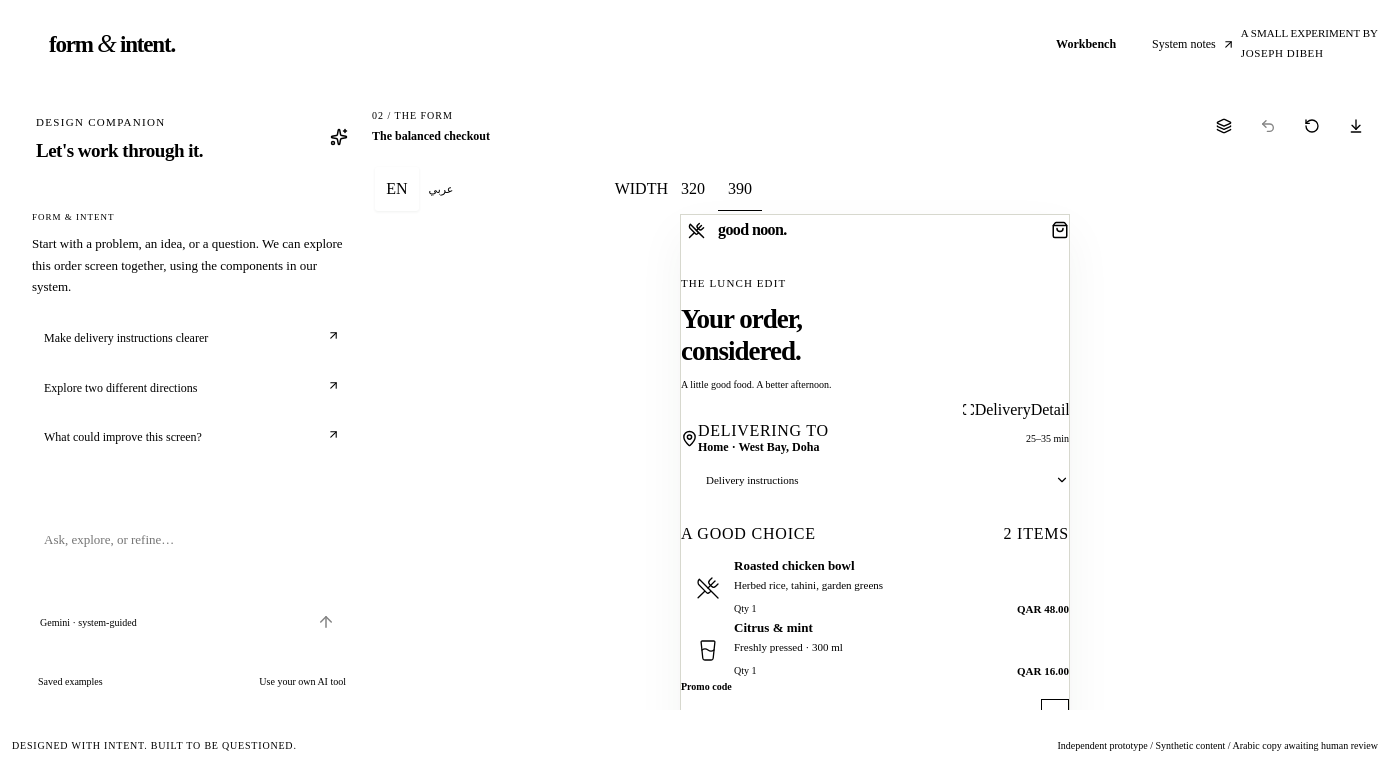
Test case: designer workspace › keeps the accepted layout when a live response violates the contract
In the text box named "Message the companion": (192, 561) [40,526,344,596], type "Make it compact"
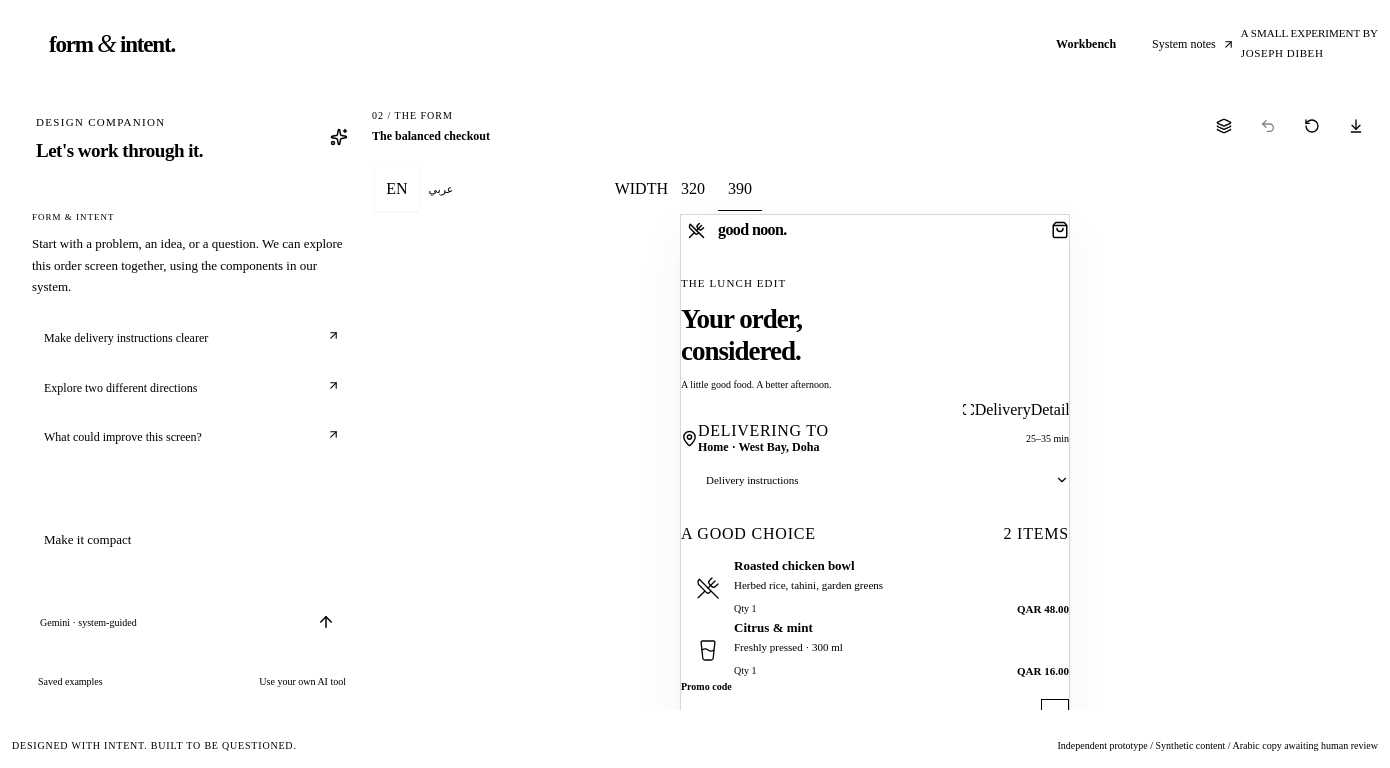
Click the button named "Send message": (326, 622) [308,604,344,640]
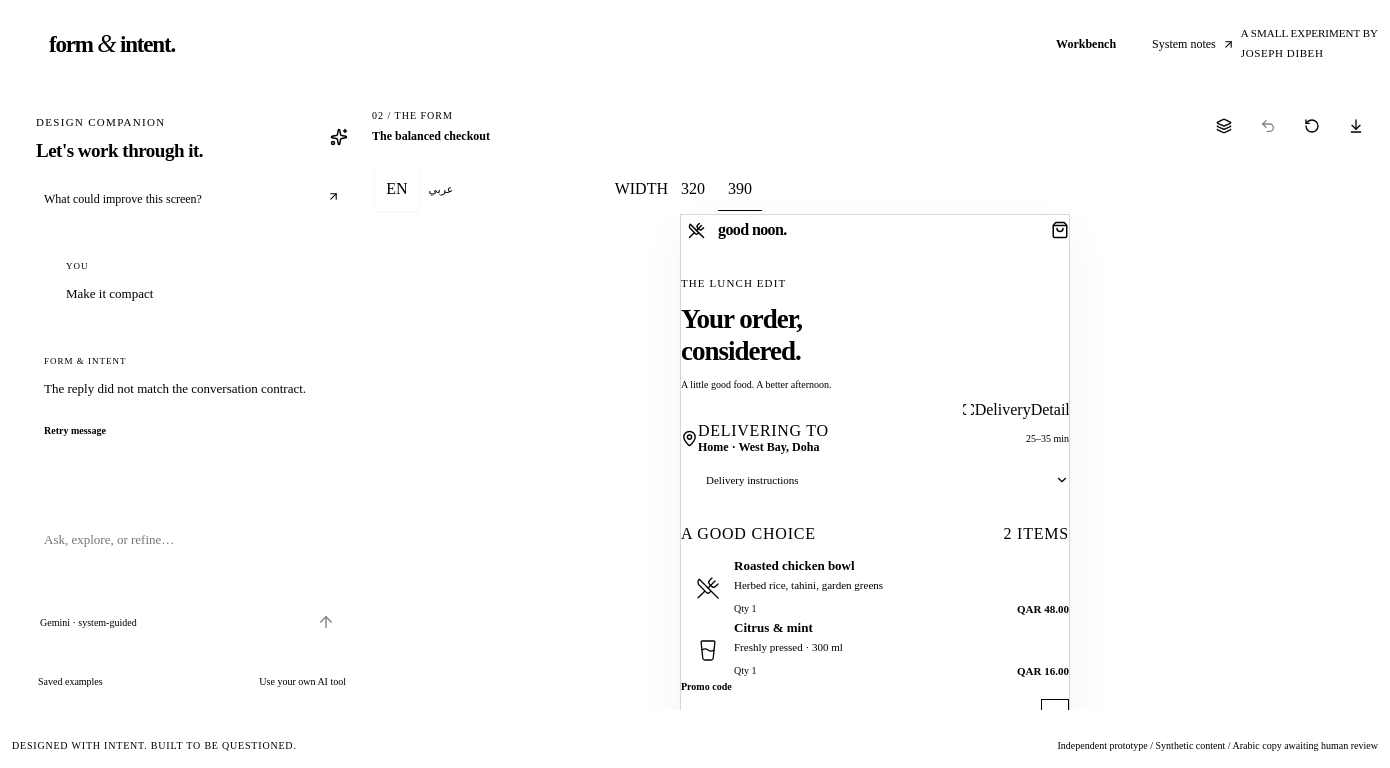
Result: the text "The reply did not match the conversation contract." is shown at [44,378,340,400]
Result: the button named "Send message" is disabled at [308,604,344,640]
